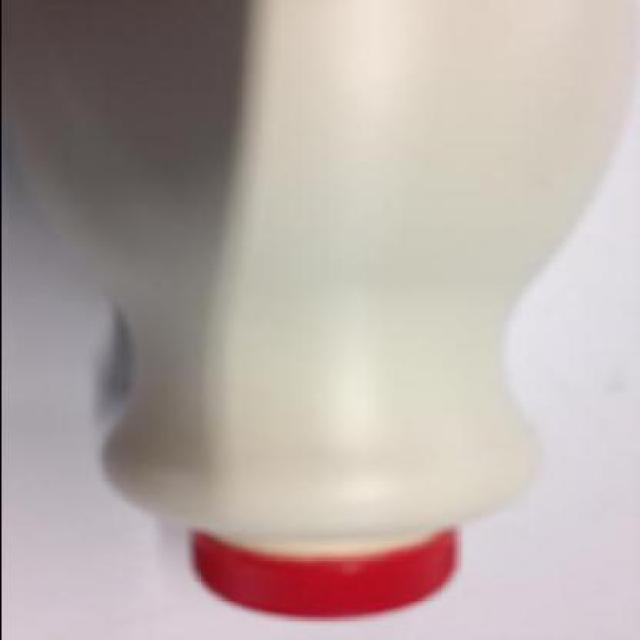PLASTIC: (1, 1, 638, 618), (189, 530, 457, 621)
